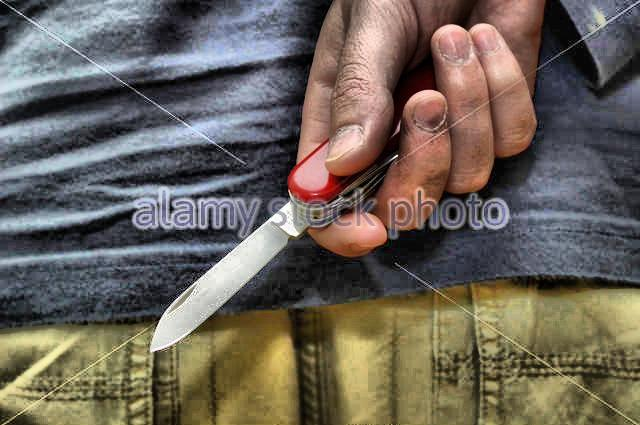knife: (142, 67, 458, 362)
